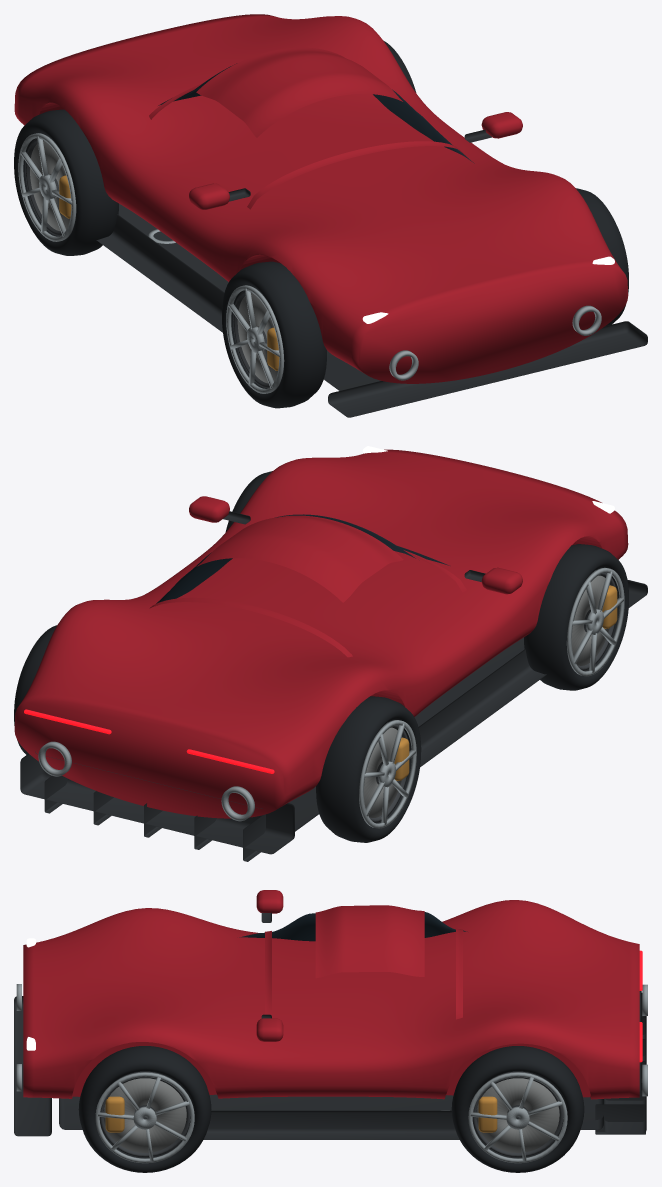
Rendered from roadster-gt.glb.
The picture shows the model from 3 angles, top to bottom: view 1: azimuth 30°, elevation 25°; view 2: azimuth 150°, elevation 25°; view 3: azimuth 270°, elevation 25°; orthographic projection. The views are drawn at different scales.
Visible parts, largest first — view 1: GT_Curved_BodyShell.001, GT_Roof_Crown.001, GT_Tyre_FL.001, GT_Tyre_RL.001, GT_Front_Splitter.001, GT_Side_Sill.002, GT_Undertray.001, GT_Tyre_FR.001, GT_Structural_Pillar.001, GT_Low_Glass_Canopy.001, GT_Rim_Lip_RL.001, GT_Rim_Lip_FL.001 (+4 smaller); view 2: GT_Curved_BodyShell.001, GT_Roof_Crown.001, GT_Tyre_RL.001, GT_Tyre_FL.001, GT_Rear_Diffuser.001, GT_Side_Sill.002, GT_Undertray.001, GT_Low_Glass_Canopy.001, GT_Rim_Lip_RL.001, GT_Rim_Lip_FL.001, GT_Brake_Disc_FL.001, GT_Brake_Disc_RL.001 (+7 smaller); view 3: GT_Curved_BodyShell.001, GT_Side_Sill.003, GT_Roof_Crown.001, GT_Tyre_FR.001, GT_Tyre_RR.001, GT_Undertray.001, GT_Brake_Disc_RR.001, GT_Brake_Disc_FR.001, GT_Front_Splitter.001, GT_Rim_Lip_FR.001, GT_Rim_Lip_RR.001, GT_Low_Glass_Canopy.001 (+12 smaller).
Boxes of the visible parts, x1,y1,x2,y2 form: GT_Curved_BodyShell.001: (14, 14, 628, 383); GT_Roof_Crown.001: (196, 47, 402, 137); GT_Tyre_FL.001: (222, 261, 326, 408); GT_Tyre_RL.001: (14, 109, 118, 255); GT_Front_Splitter.001: (328, 321, 647, 417); GT_Side_Sill.002: (96, 214, 224, 332); GT_Undertray.001: (118, 203, 380, 390); GT_Tyre_FR.001: (575, 188, 628, 325); GT_Structural_Pillar.001: (247, 141, 466, 209); GT_Low_Glass_Canopy.001: (158, 63, 474, 163); GT_Rim_Lip_RL.001: (18, 133, 76, 241); GT_Rim_Lip_FL.001: (226, 285, 284, 393); GT_Curved_BodyShell.001: (14, 449, 628, 818); GT_Roof_Crown.001: (196, 515, 403, 602); GT_Tyre_RL.001: (316, 696, 421, 842); GT_Tyre_FL.001: (524, 544, 628, 690); GT_Rear_Diffuser.001: (20, 753, 294, 854); GT_Side_Sill.002: (418, 648, 546, 767); GT_Undertray.001: (288, 637, 524, 831); GT_Low_Glass_Canopy.001: (156, 514, 449, 603); GT_Rim_Lip_RL.001: (359, 720, 416, 828); GT_Rim_Lip_FL.001: (566, 567, 624, 676); GT_Brake_Disc_FL.001: (571, 575, 610, 665); GT_Brake_Disc_RL.001: (364, 727, 402, 817); GT_Curved_BodyShell.001: (23, 900, 639, 1099); GT_Side_Sill.003: (146, 1110, 517, 1139); GT_Roof_Crown.001: (315, 905, 424, 978); GT_Tyre_FR.001: (78, 1046, 211, 1172); GT_Tyre_RR.001: (451, 1046, 584, 1172); GT_Undertray.001: (59, 1094, 603, 1129); GT_Brake_Disc_RR.001: (476, 1078, 559, 1152); GT_Brake_Disc_FR.001: (103, 1078, 186, 1152); GT_Front_Splitter.001: (14, 996, 51, 1136); GT_Rim_Lip_FR.001: (95, 1072, 194, 1163); GT_Rim_Lip_RR.001: (468, 1072, 567, 1163); GT_Low_Glass_Canopy.001: (239, 912, 467, 941).
Bounding box in the file's own units: 2.27 × 1.3 × 4.01.
